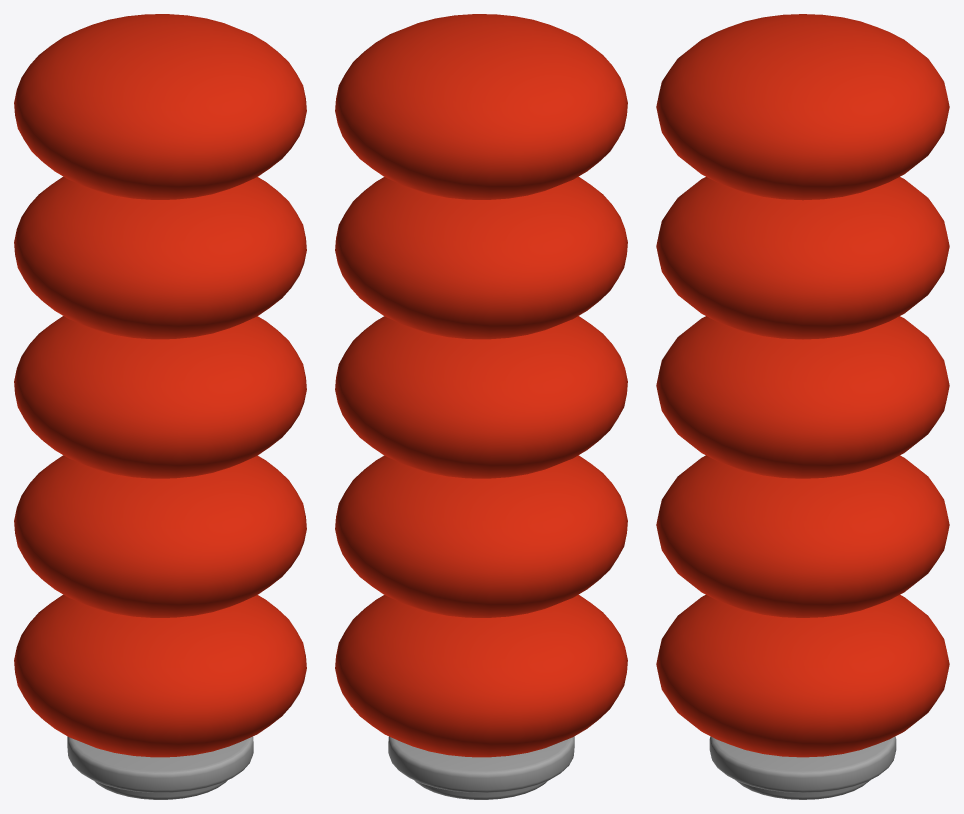
File: trap_trap.glb
The picture shows the model from 3 angles, left to right: view 1: azimuth 30°, elevation 25°; view 2: azimuth 150°, elevation 25°; view 3: azimuth 270°, elevation 25°; orthographic projection.
Visible parts, largest first — view 1: Cylinder.054_visual; view 2: Cylinder.054_visual; view 3: Cylinder.054_visual.
Part boxes in pixels (x1,y1,x2,y2): Cylinder.054_visual: (14, 14, 306, 799); Cylinder.054_visual: (335, 14, 627, 799); Cylinder.054_visual: (656, 14, 949, 799).
Size of what is drawn, in the model's own units: 0.7507 by 2.07 by 0.7507.
Materials: 1 (1 with a texture image).
